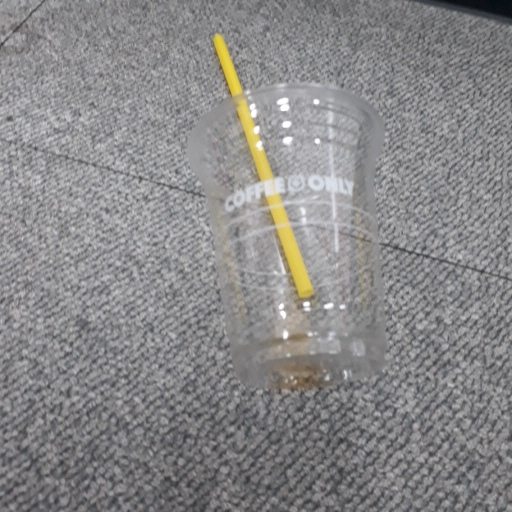Plastic_2: (186, 34, 392, 392)
